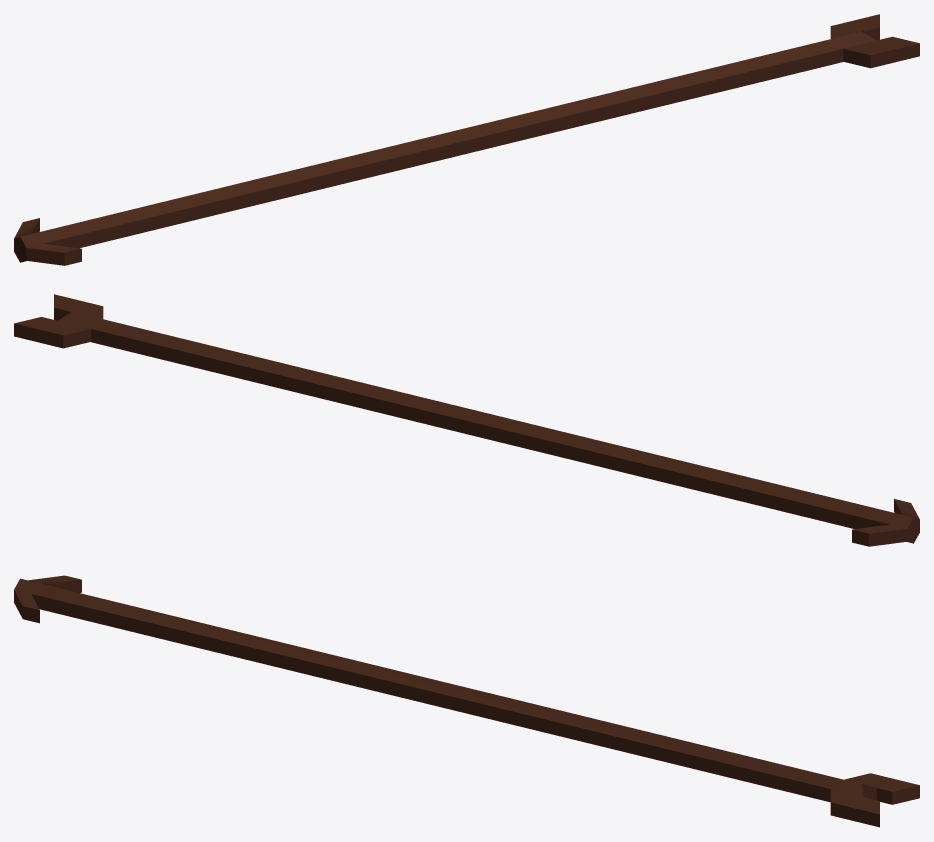
The model's file is Arrow.fbx.
3 views of the same model, one above another, from view 1: azimuth 30°, elevation 25°; view 2: azimuth 150°, elevation 25°; view 3: azimuth 330°, elevation 25° (orthographic).
Parts seen in each view (by area): view 1: arrow1; view 2: arrow1; view 3: arrow1.
Boxes of the visible parts, x1=… form: arrow1: x1=14, y1=14, x2=919, y2=265; arrow1: x1=14, y1=294, x2=919, y2=546; arrow1: x1=14, y1=575, x2=919, y2=827.
Bounding box in the file's own units: 0.6913 × 0.0197 × 0.0572.
